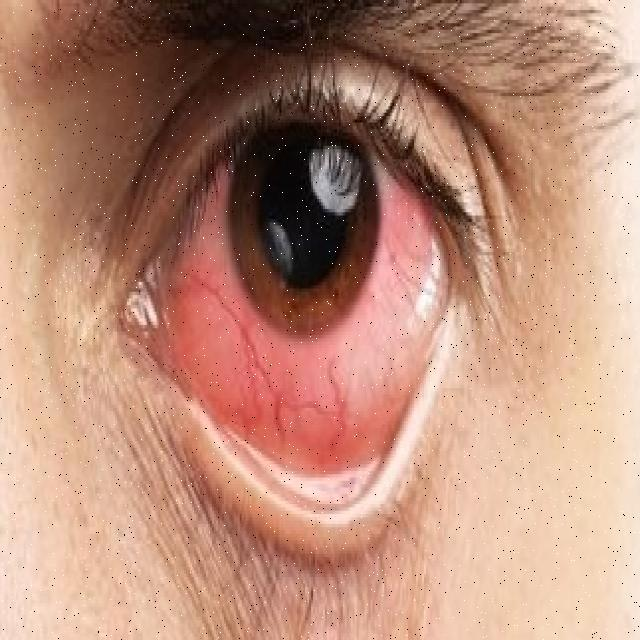Conjunctivitis: (98, 125, 479, 467)
